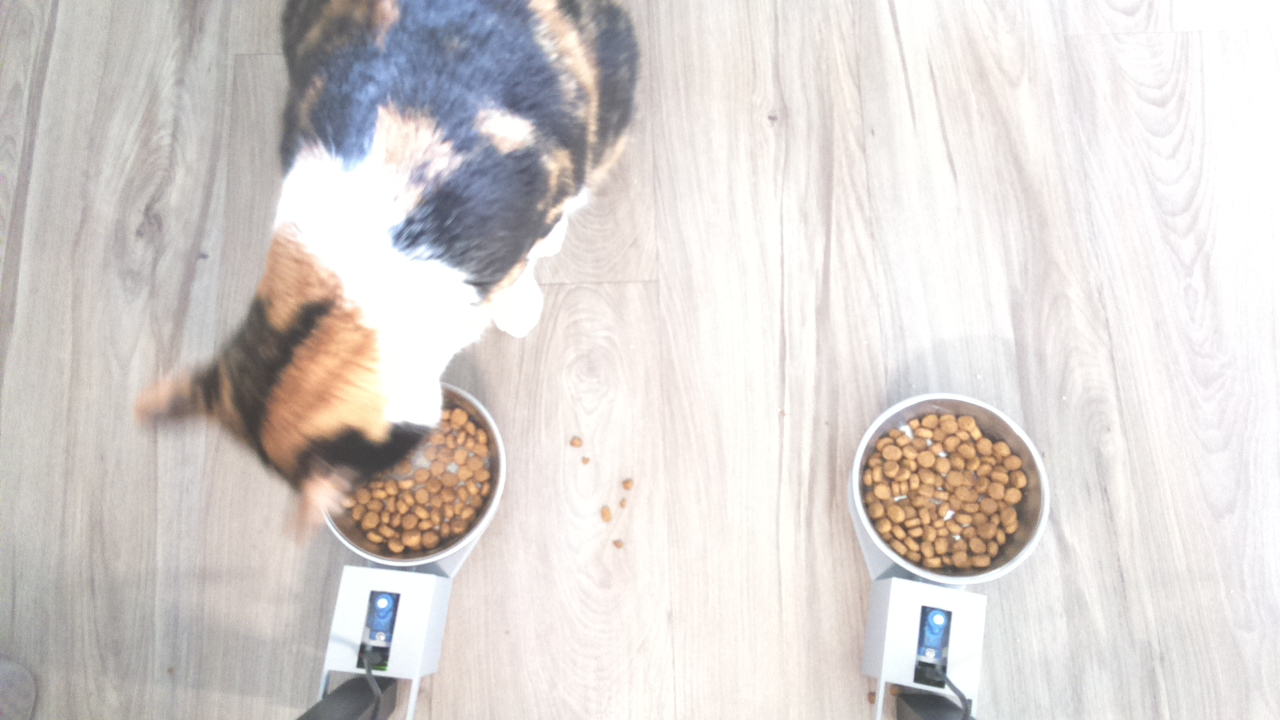bella_eating: (132, 219, 509, 575)
open_bowl: (848, 392, 1055, 587)
